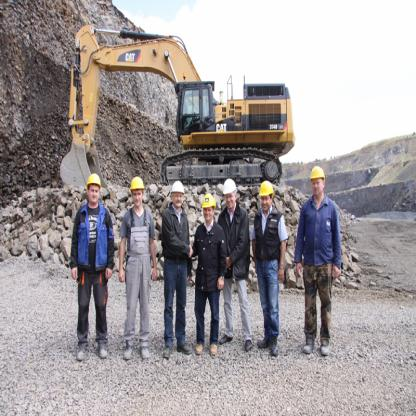excavator: (50, 10, 298, 196)
person: (295, 158, 349, 363), (71, 166, 114, 361), (113, 166, 152, 362), (154, 176, 192, 357), (216, 174, 250, 351), (252, 171, 283, 364), (194, 196, 216, 356)
